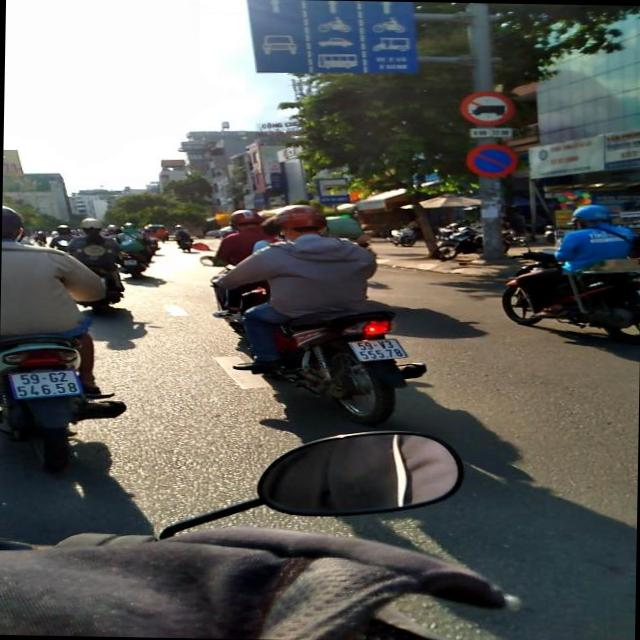P-131a: (465, 140, 517, 181)
